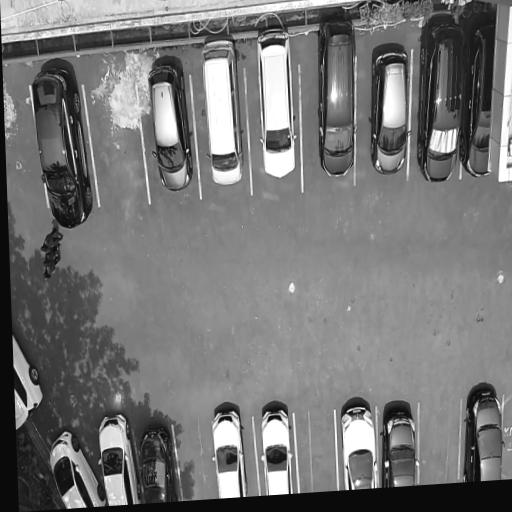Car: (27, 57, 94, 233), (410, 10, 471, 189), (456, 5, 506, 190), (311, 7, 364, 181), (198, 29, 250, 199), (252, 24, 302, 187), (145, 48, 196, 200), (363, 41, 418, 179), (461, 372, 502, 482), (49, 427, 102, 510), (209, 395, 250, 499), (376, 389, 419, 488), (95, 404, 136, 506), (337, 394, 380, 491), (136, 407, 178, 504), (12, 325, 47, 441), (255, 399, 296, 496)
Space Available: (95, 72, 140, 213), (417, 387, 462, 485), (298, 403, 336, 493), (177, 424, 216, 501), (504, 388, 512, 479)
